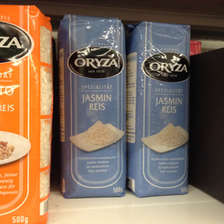rice: (57, 14, 127, 198), (124, 20, 191, 198), (1, 3, 52, 224)
